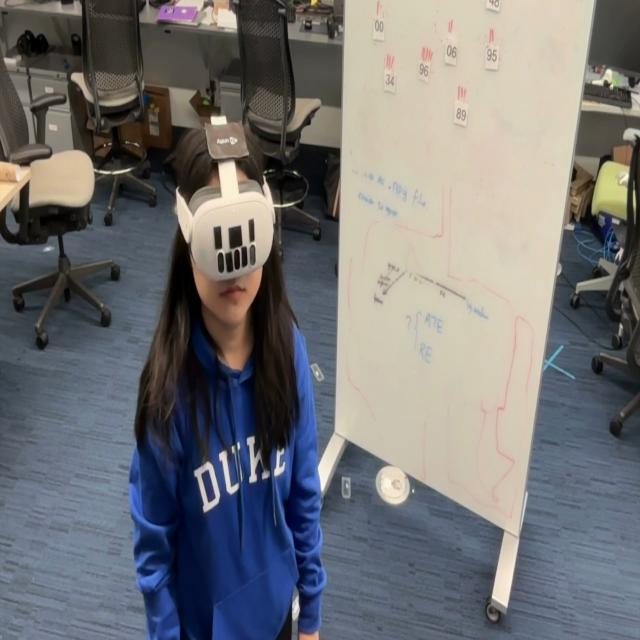Headset: (174, 164, 276, 282)
UnityLogo: (203, 114, 250, 163)
